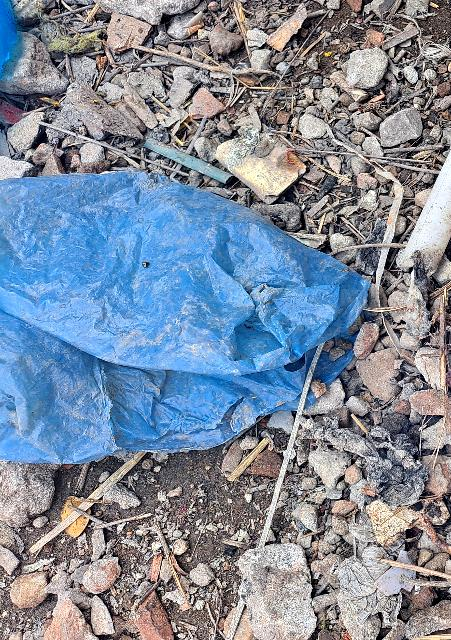polythene: (5, 170, 316, 471)
